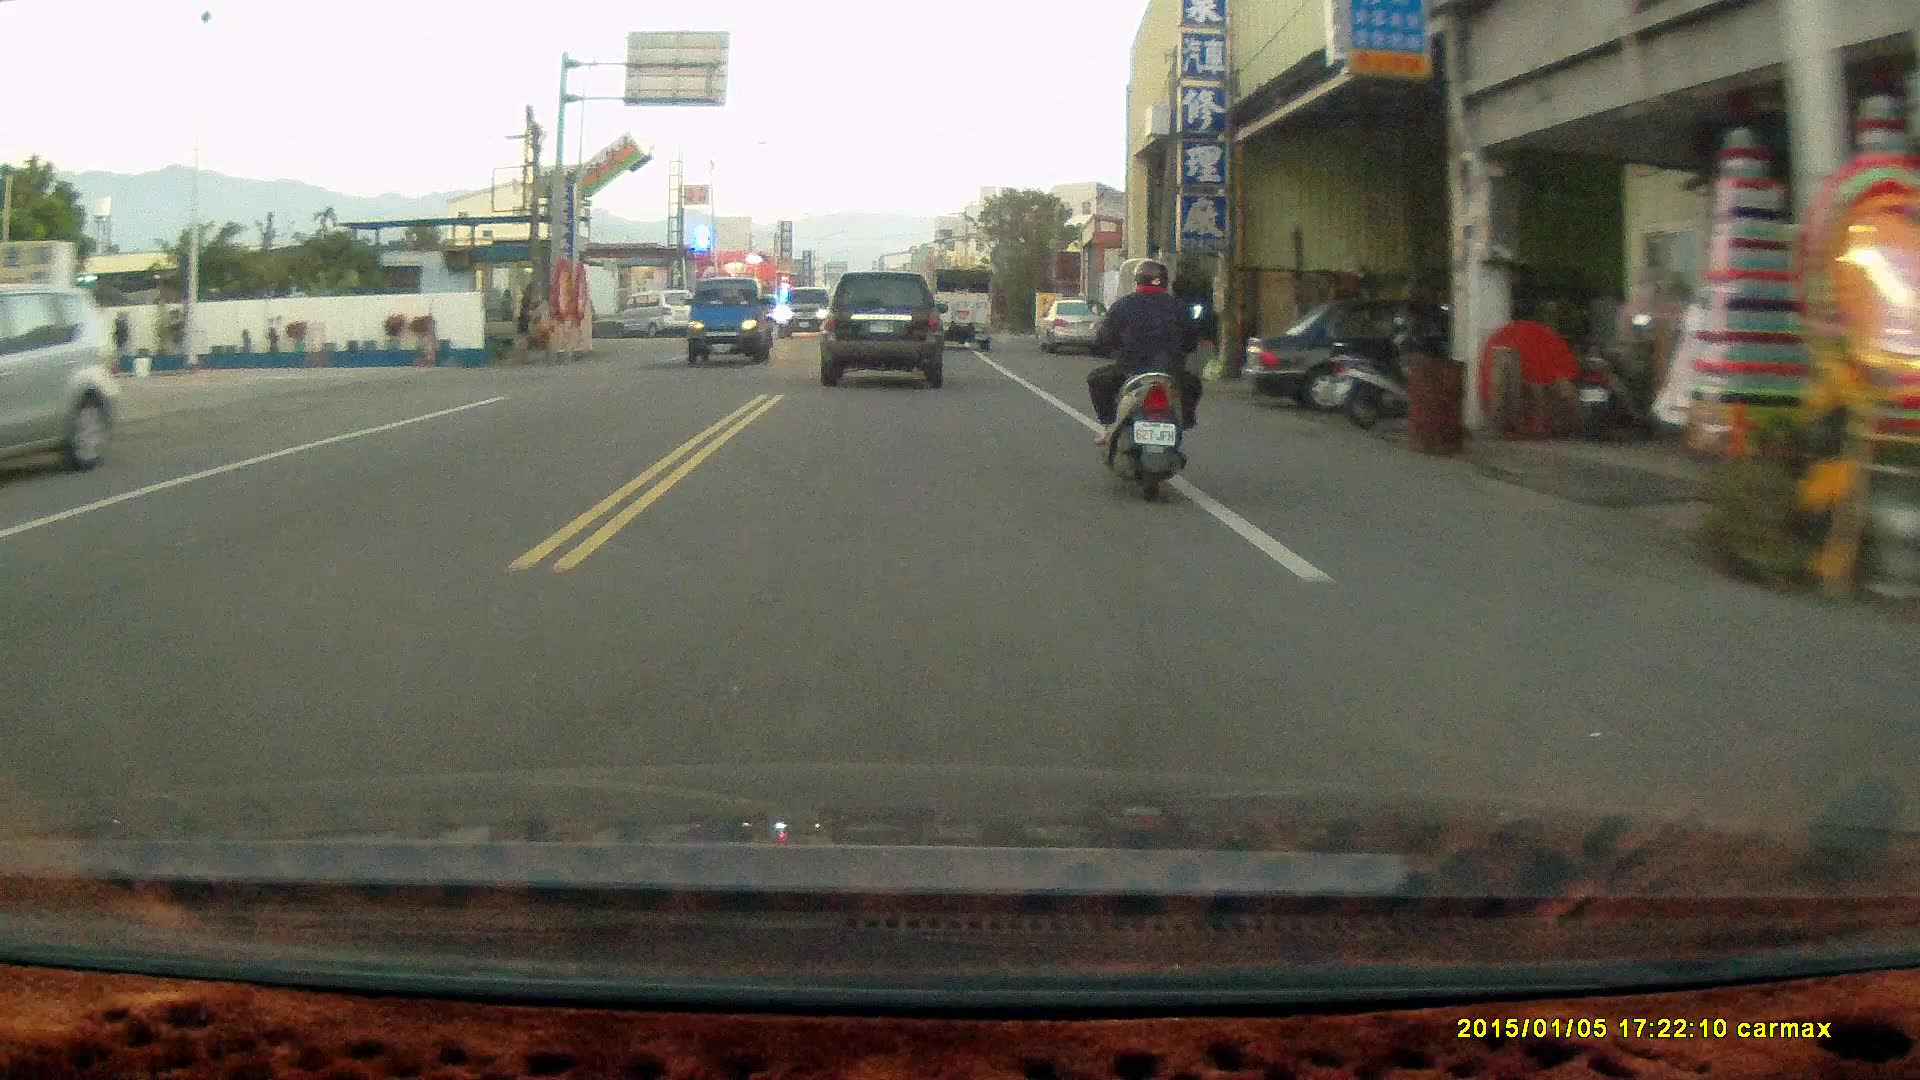rider: (1087, 254, 1205, 501)
vehicle: (1235, 288, 1522, 412), (1, 282, 123, 490), (823, 269, 946, 386), (686, 275, 778, 364), (926, 267, 996, 350), (1041, 296, 1115, 356), (615, 290, 700, 338)
